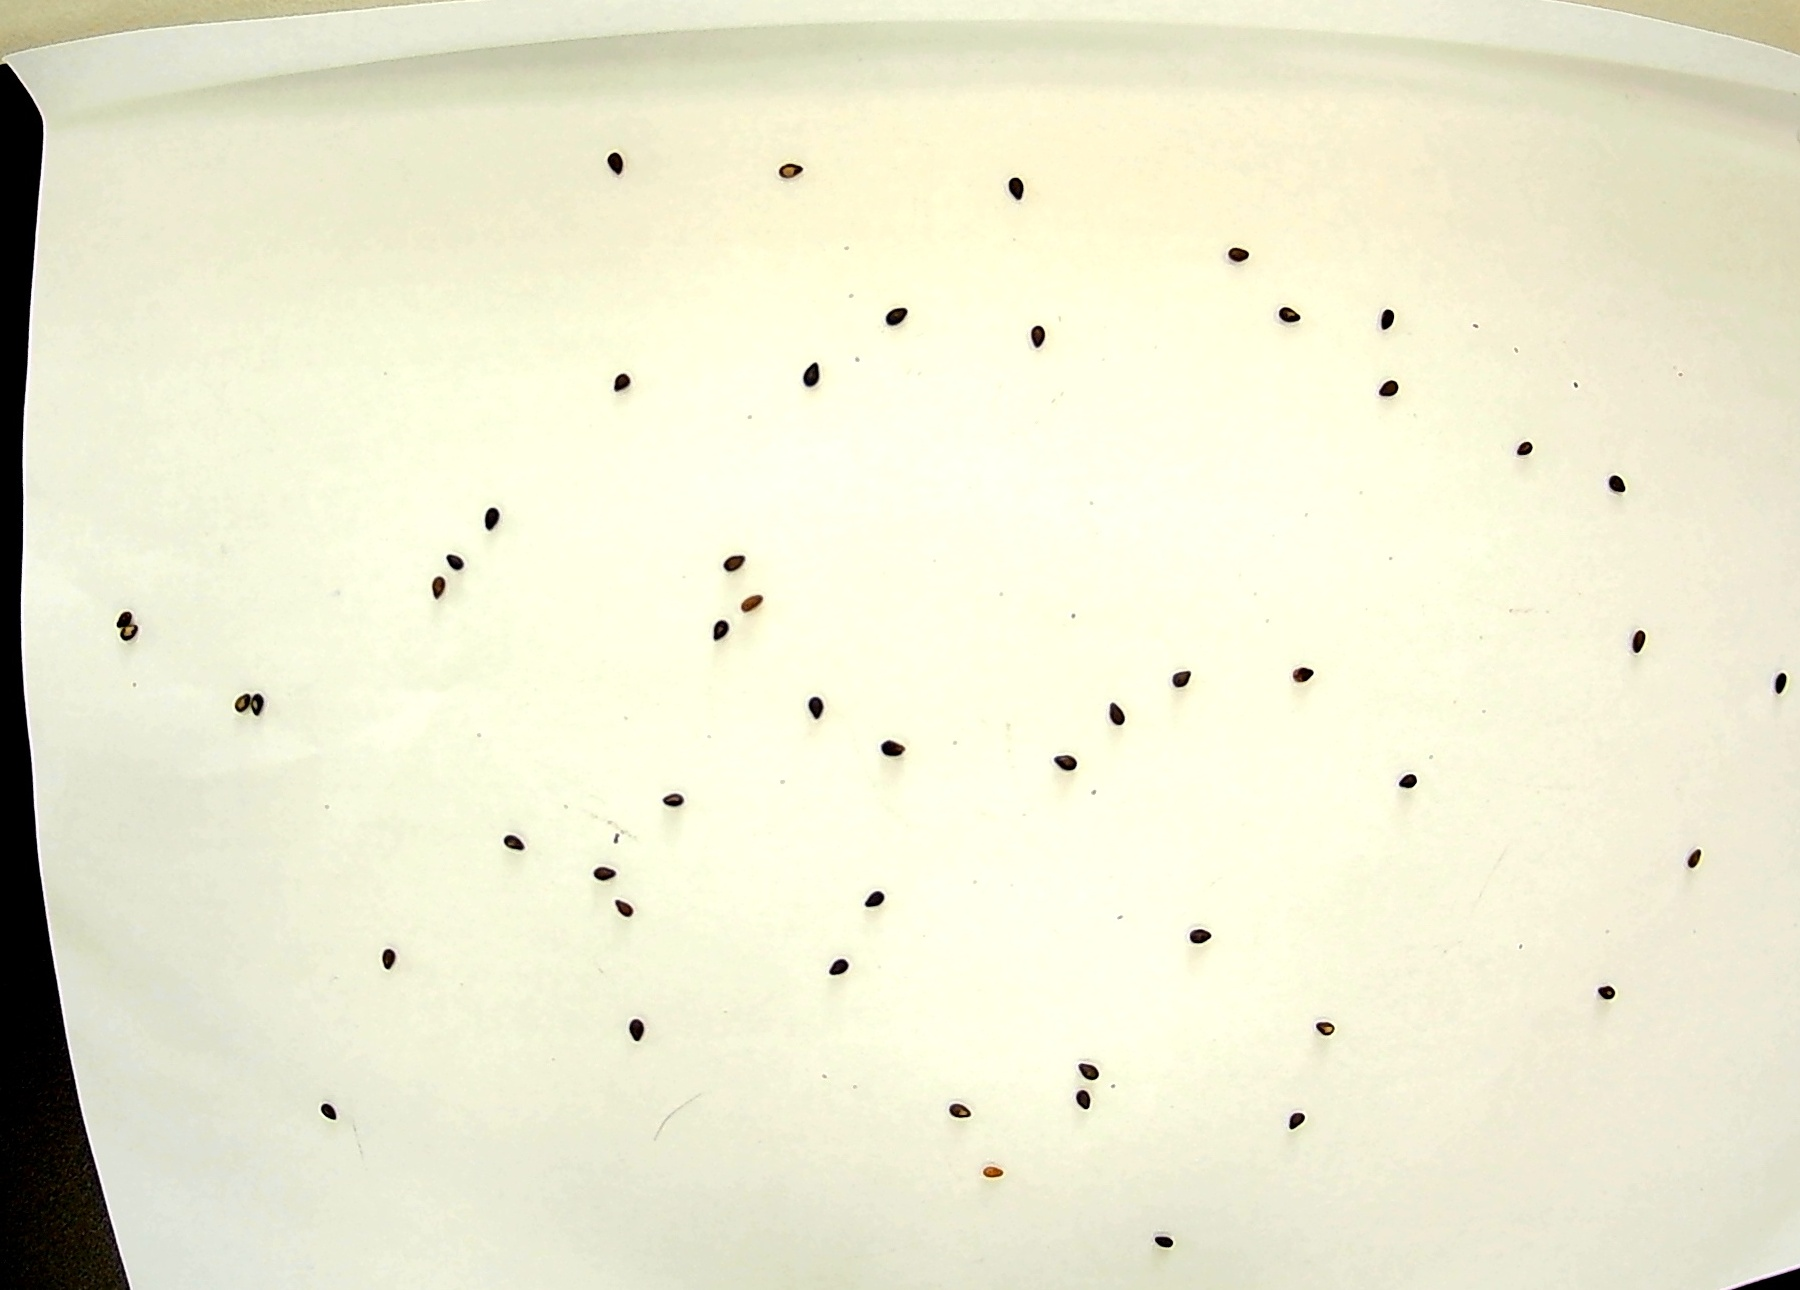sesami: (1021, 316, 1052, 355), (476, 484, 507, 524), (374, 942, 405, 981), (661, 773, 692, 813), (615, 1007, 646, 1046), (935, 1083, 966, 1122), (1222, 230, 1253, 269), (1372, 295, 1402, 334), (1627, 625, 1658, 665), (1591, 967, 1621, 1007), (1284, 653, 1314, 692), (719, 539, 749, 577), (426, 563, 456, 600), (100, 588, 131, 625), (116, 611, 147, 649), (248, 685, 279, 723), (596, 866, 627, 903), (975, 1153, 1006, 1191), (1076, 1043, 1107, 1081), (1277, 1107, 1307, 1145), (1316, 1012, 1347, 1050), (1182, 912, 1213, 949), (1051, 751, 1081, 789), (1104, 690, 1134, 727), (1274, 289, 1305, 327), (1401, 764, 1432, 801), (597, 142, 627, 181), (869, 295, 899, 334), (826, 947, 855, 986), (1146, 1217, 1175, 1256), (1379, 371, 1408, 410), (774, 148, 804, 186), (998, 166, 1027, 204), (793, 356, 822, 394), (601, 360, 631, 398), (733, 577, 762, 614), (705, 610, 734, 648), (449, 535, 479, 572), (220, 685, 250, 723), (495, 815, 525, 853), (320, 1089, 349, 1127), (611, 888, 640, 926), (865, 889, 894, 927), (876, 730, 906, 768), (800, 685, 829, 723), (1065, 1083, 1094, 1121), (1518, 434, 1547, 472), (1598, 465, 1627, 503), (1762, 660, 1792, 698), (1686, 835, 1715, 873), (1172, 660, 1201, 698)
